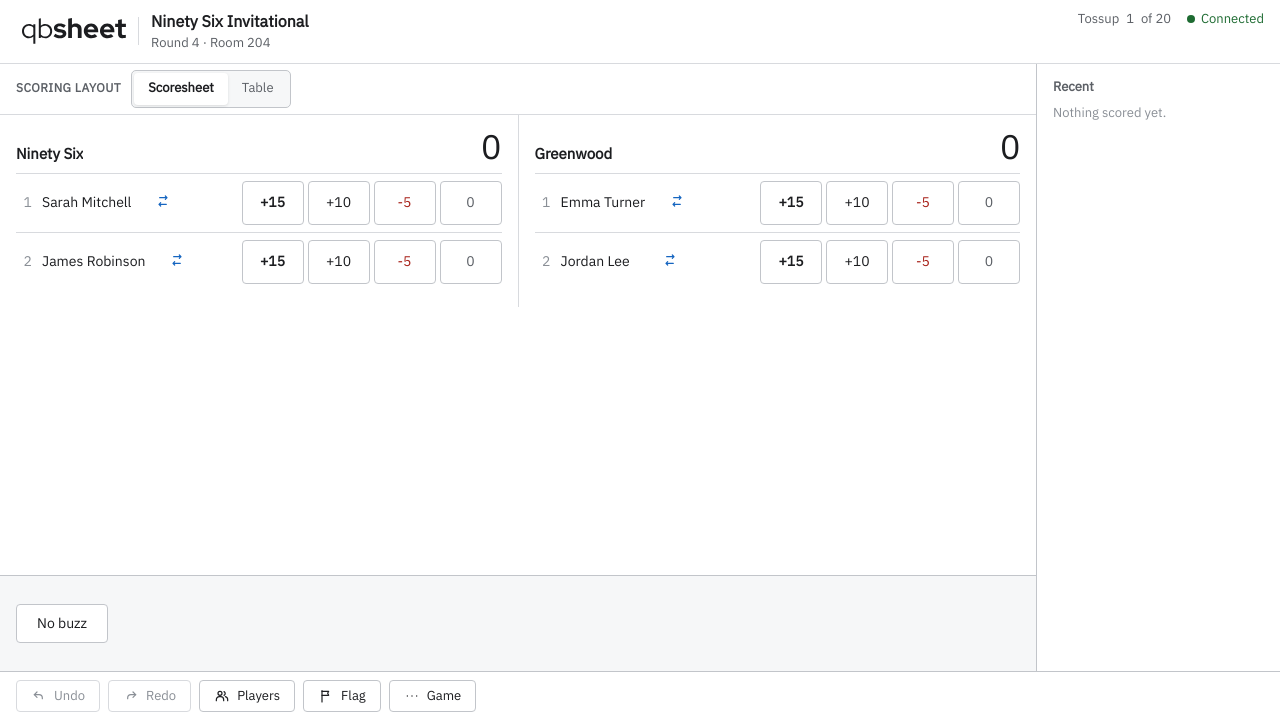
Test: the Game menu entry › the scoresheet offers a break, and it is not filed with anything that changes the game
Click the button "Game".
click(432, 696)  # box left=389, top=680, right=476, bottom=712
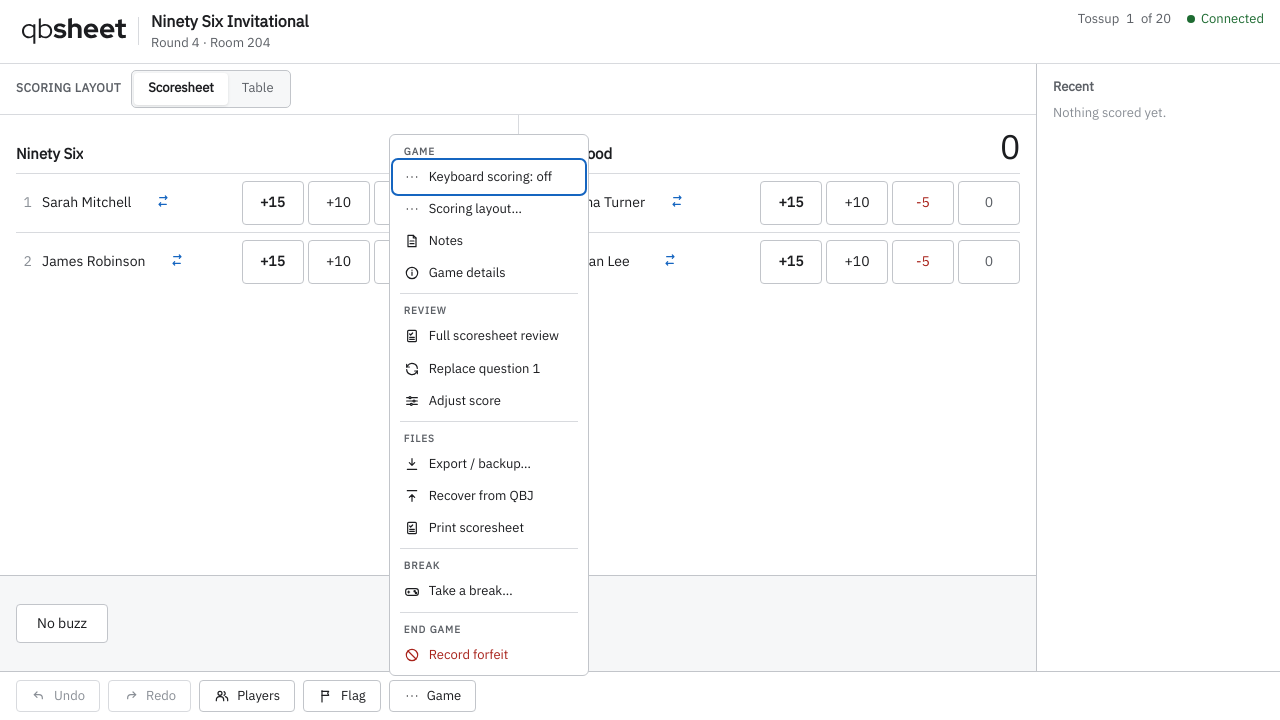
Now the menu item "Take a break…" is enabled, box left=394, top=575, right=584, bottom=608
